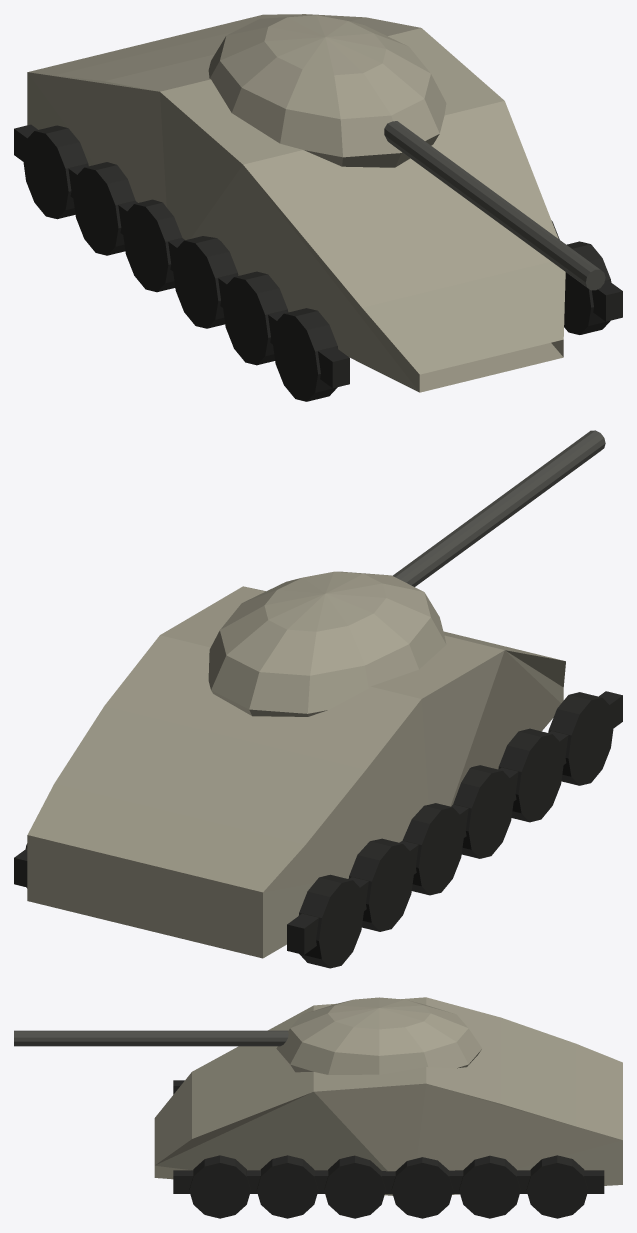
File: wespe.glb
3 renders of one model, top to bottom at view 1: azimuth 30°, elevation 25°; view 2: azimuth 150°, elevation 25°; view 3: azimuth 270°, elevation 25°, orthographic. The views are drawn at different scales.
Visible parts, largest first — view 1: Hull, Turret, Gun, Wheel_L_01, Wheel_L_06, Wheel_L_02, Wheel_L_03, Wheel_L_05, Wheel_L_04, Track_L, Wheel_R_01, Track_R; view 2: Hull, Turret, Gun, Wheel_L_06, Wheel_L_02, Wheel_L_01, Wheel_L_05, Wheel_L_03, Wheel_L_04, Track_L; view 3: Hull, Turret, Gun, Wheel_R_02, Wheel_R_06, Wheel_R_01, Wheel_R_05, Wheel_R_03, Wheel_R_04, Track_R.
Boxes of the visible parts, bbox=[...] form: Hull: bbox=[27, 14, 565, 392]; Turret: bbox=[208, 15, 446, 167]; Gun: bbox=[384, 121, 605, 290]; Wheel_L_01: bbox=[272, 308, 337, 401]; Wheel_L_06: bbox=[23, 125, 88, 219]; Wheel_L_02: bbox=[222, 271, 288, 365]; Wheel_L_03: bbox=[172, 236, 238, 328]; Wheel_L_05: bbox=[73, 162, 135, 255]; Wheel_L_04: bbox=[123, 199, 182, 292]; Track_L: bbox=[14, 124, 349, 388]; Wheel_R_01: bbox=[564, 241, 611, 334]; Track_R: bbox=[592, 280, 622, 321]; Hull: bbox=[27, 586, 565, 958]; Turret: bbox=[208, 571, 446, 716]; Gun: bbox=[392, 430, 605, 586]; Wheel_L_06: bbox=[298, 874, 364, 968]; Wheel_L_02: bbox=[498, 728, 563, 822]; Wheel_L_01: bbox=[548, 692, 613, 785]; Wheel_L_05: bbox=[348, 838, 414, 931]; Wheel_L_03: bbox=[453, 765, 513, 858]; Wheel_L_04: bbox=[402, 803, 464, 895]; Track_L: bbox=[287, 691, 622, 954]; Hull: bbox=[154, 997, 622, 1195]; Turret: bbox=[276, 997, 482, 1074]; Gun: bbox=[14, 1030, 288, 1046]; Wheel_R_02: bbox=[256, 1155, 318, 1218]; Wheel_R_06: bbox=[526, 1155, 588, 1218]; Wheel_R_01: bbox=[189, 1155, 250, 1218]; Wheel_R_05: bbox=[459, 1155, 520, 1218]; Wheel_R_03: bbox=[324, 1155, 385, 1218]; Wheel_R_04: bbox=[391, 1157, 453, 1218]; Track_R: bbox=[173, 1170, 604, 1193].
Bounding box in the file's own units: 2.37 × 1.83 × 6.25.
